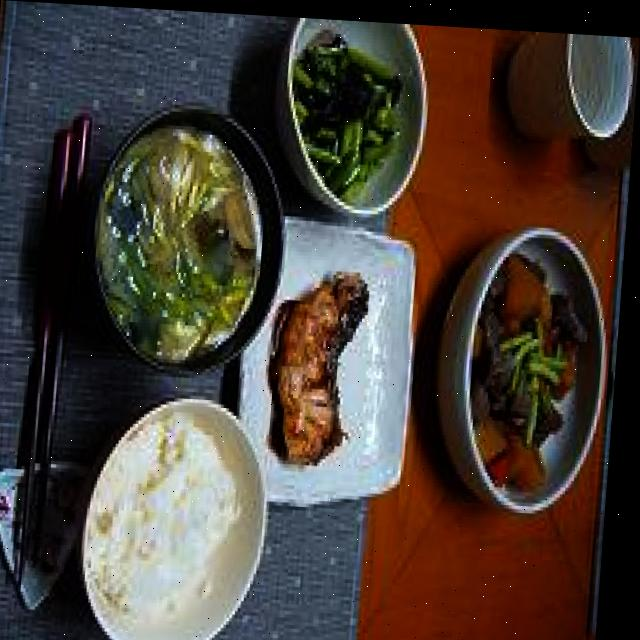熟制海鲜: (272, 261, 393, 488)
